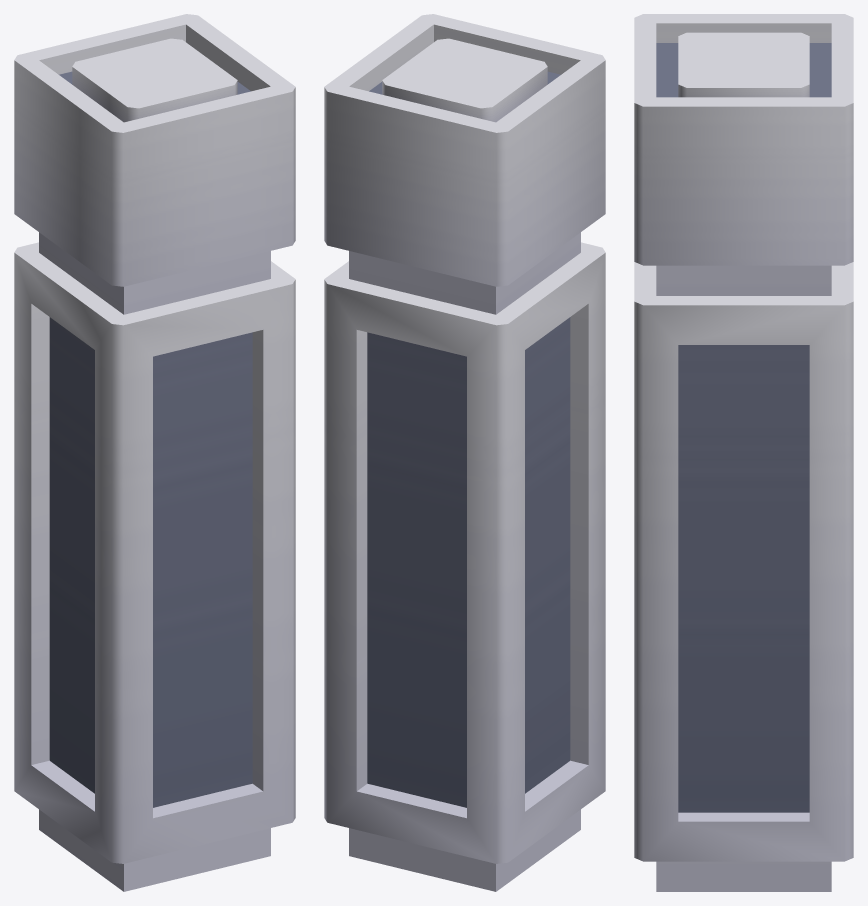
Rendered from rooftop.meshopt.glb.
3 renders of one model, left to right at view 1: azimuth 30°, elevation 25°; view 2: azimuth 150°, elevation 25°; view 3: azimuth 270°, elevation 25°, orthographic. The views are drawn at different scales.
Visible parts, largest first — view 1: low-detail-building-a; view 2: low-detail-building-a; view 3: low-detail-building-a.
Boxes of the visible parts, x1,y1,x2,y2 form: low-detail-building-a: (14, 14, 295, 891); low-detail-building-a: (324, 14, 605, 891); low-detail-building-a: (634, 14, 853, 891).
Bounding box in the file's own units: 0.5001 × 2 × 0.5001.
1 material, 1 textured.
